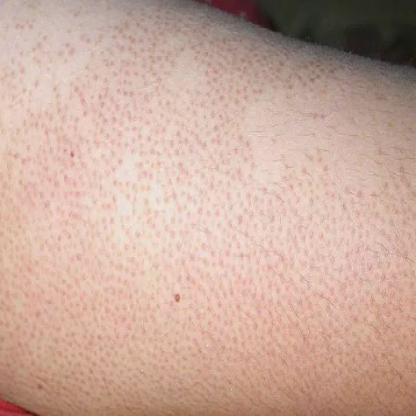Chicken Skin: (0, 35, 416, 409), (3, 0, 258, 37)
